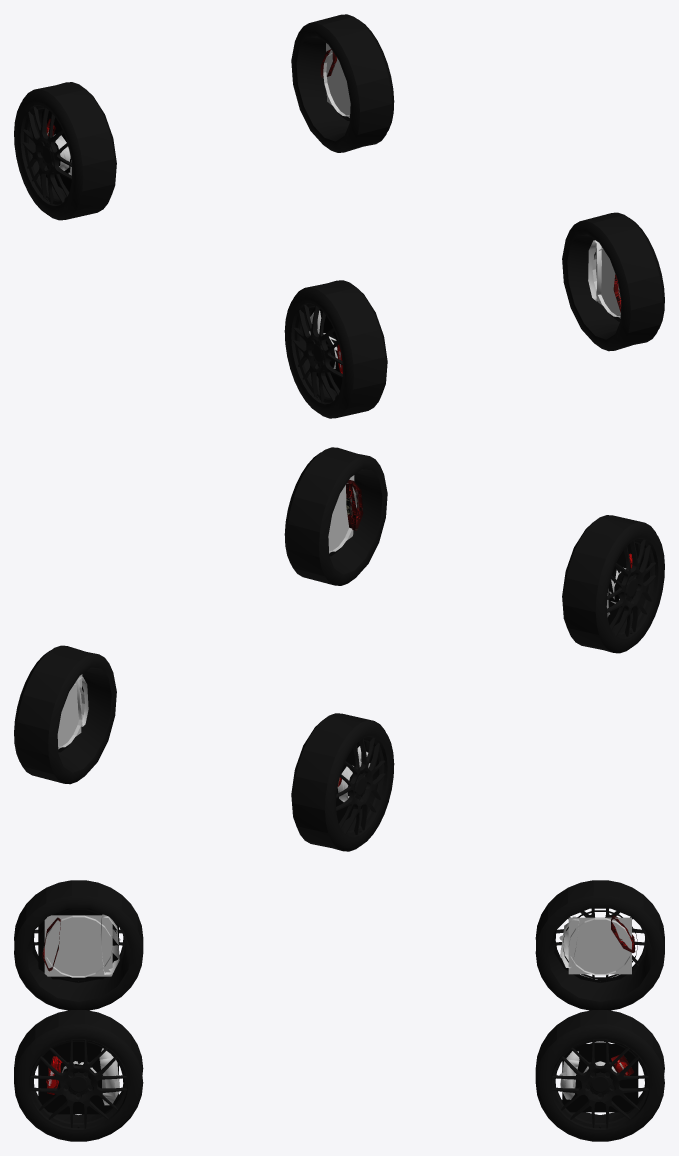
File: evo9_wheels.FBX
The picture shows the model from 3 angles, top to bottom: view 1: azimuth 30°, elevation 25°; view 2: azimuth 150°, elevation 25°; view 3: azimuth 270°, elevation 25°; orthographic projection. The views are drawn at different scales.
Parts seen in each view (by area): view 1: BS_RSGT 19 RR, BS_RSGT 19 FR, BS_RSGT 19 RL, BS_RSGT 19 FL, BrakeRL, BrakeFL, BremboFL, BremboFR, BremboRR; view 2: BS_RSGT 19 RR, BS_RSGT 19 FR, BS_RSGT 19 RL, BS_RSGT 19 FL, BrakeFL, BrakeRL, BremboRR, BremboFR; view 3: BS_RSGT 19 RL, BS_RSGT 19 FL, BS_RSGT 19 RR, BS_RSGT 19 FR, BrakeFR, BrakeRR, BremboFL, BremboRL, BremboFR, BremboRR.
Part boxes in pixels (x1,y1,x2,y2): BS_RSGT 19 RR: [14, 82, 116, 220]; BS_RSGT 19 FR: [284, 280, 387, 418]; BS_RSGT 19 RL: [291, 14, 394, 152]; BS_RSGT 19 FL: [562, 212, 664, 351]; BrakeRL: [320, 43, 350, 117]; BrakeFL: [592, 243, 621, 318]; BremboFL: [588, 240, 620, 321]; BremboFR: [309, 307, 342, 390]; BremboRR: [41, 109, 71, 192]; BS_RSGT 19 RR: [291, 713, 394, 851]; BS_RSGT 19 FR: [562, 515, 664, 653]; BS_RSGT 19 RL: [14, 645, 116, 784]; BS_RSGT 19 FL: [284, 447, 387, 585]; BrakeFL: [328, 475, 363, 553]; BrakeRL: [57, 674, 84, 749]; BremboRR: [336, 741, 370, 823]; BremboFR: [606, 543, 638, 625]; BS_RSGT 19 RL: [535, 1010, 664, 1141]; BS_RSGT 19 FL: [14, 1010, 143, 1141]; BS_RSGT 19 RR: [535, 880, 664, 1010]; BS_RSGT 19 FR: [14, 880, 143, 1010]; BrakeFR: [42, 915, 112, 977]; BrakeRR: [568, 915, 635, 975]; BremboFL: [38, 1041, 119, 1114]; BremboRL: [559, 1042, 638, 1112]; BremboFR: [38, 908, 120, 980]; BremboRR: [559, 910, 637, 978].
Bounding box in the file's own units: 3943 × 1434 × 7227.
